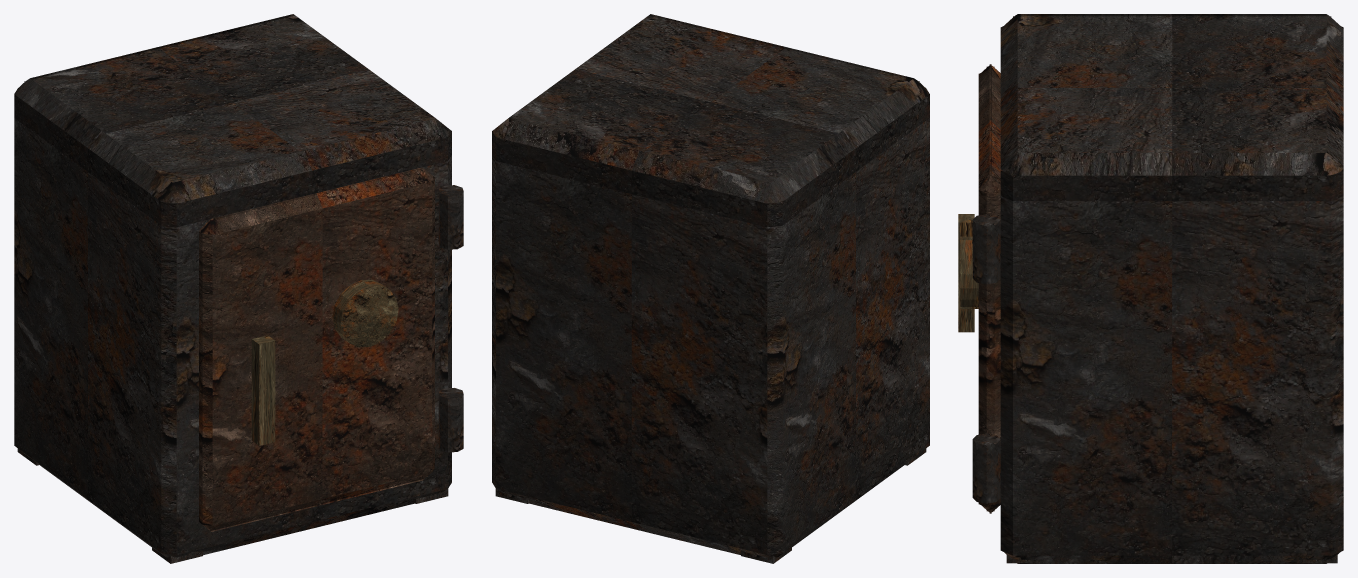
File: metal-safe-v01-photo.glb
3 renders of one model, left to right at view 1: azimuth 30°, elevation 25°; view 2: azimuth 150°, elevation 25°; view 3: azimuth 270°, elevation 25°, orthographic. The views are drawn at different scales.
Parts seen in each view (by area): view 1: metal-safe; view 2: metal-safe; view 3: metal-safe.
Boxes of the visible parts, left/top/right/bottom form: metal-safe: left=14, top=14, right=463, bottom=563; metal-safe: left=492, top=14, right=929, bottom=563; metal-safe: left=958, top=14, right=1343, bottom=563.
Bounding box in the file's own units: 0.9 × 1.12 × 0.955.
Materials: 3 (3 with a texture image).
